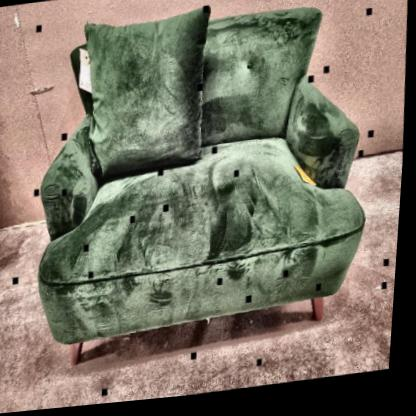Sofa: (27, 0, 393, 369)
